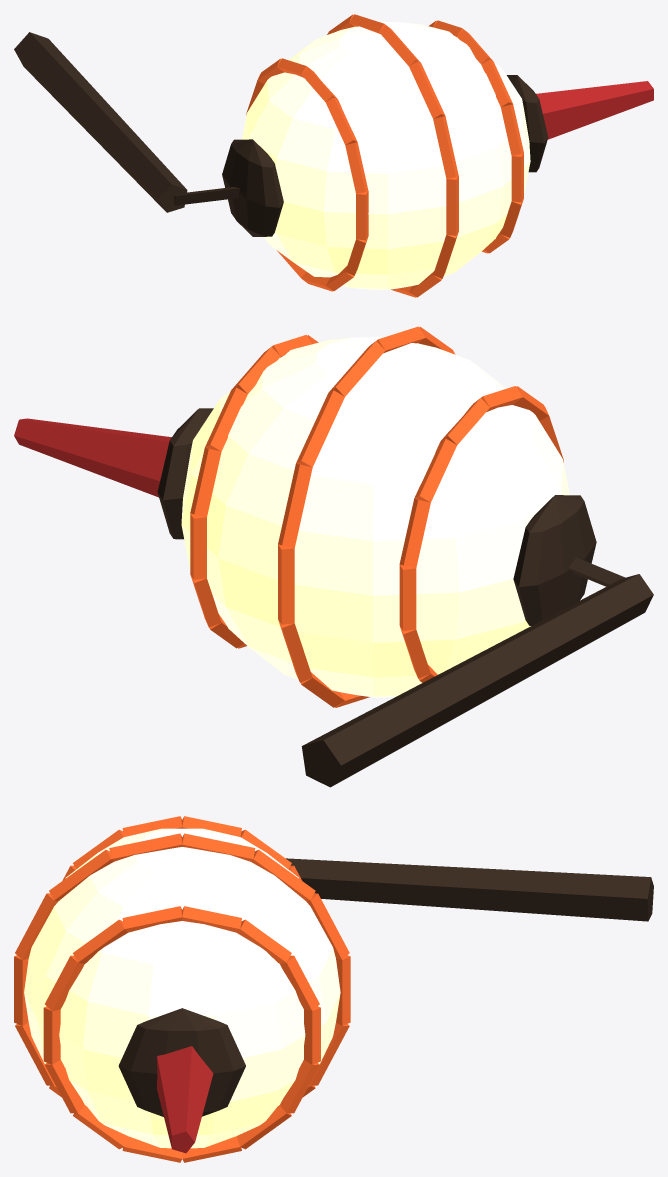
Rendered from lantern_widow_lantern.glb.
3 views of the same model, one above another, from view 1: azimuth 30°, elevation 25°; view 2: azimuth 150°, elevation 25°; view 3: azimuth 270°, elevation 25° (orthographic). The views are drawn at different scales.
Visible parts, largest first — view 1: lantern_widow_lantern; view 2: lantern_widow_lantern; view 3: lantern_widow_lantern.
Boxes of the visible parts, x1,y1,x2,y2 form: lantern_widow_lantern: (14, 14, 653, 297); lantern_widow_lantern: (14, 326, 653, 787); lantern_widow_lantern: (14, 816, 653, 1162).
Size of the model in its own units: 0.6176 by 0.3236 by 0.6012.
